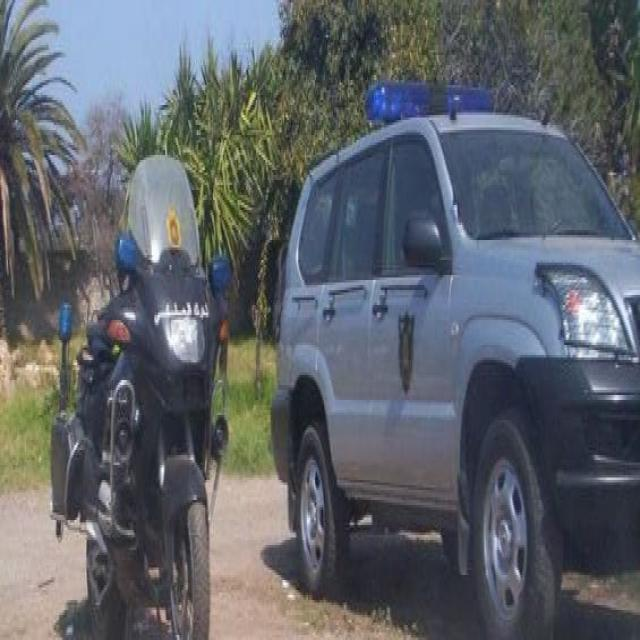gendarme car: (264, 63, 544, 629)
